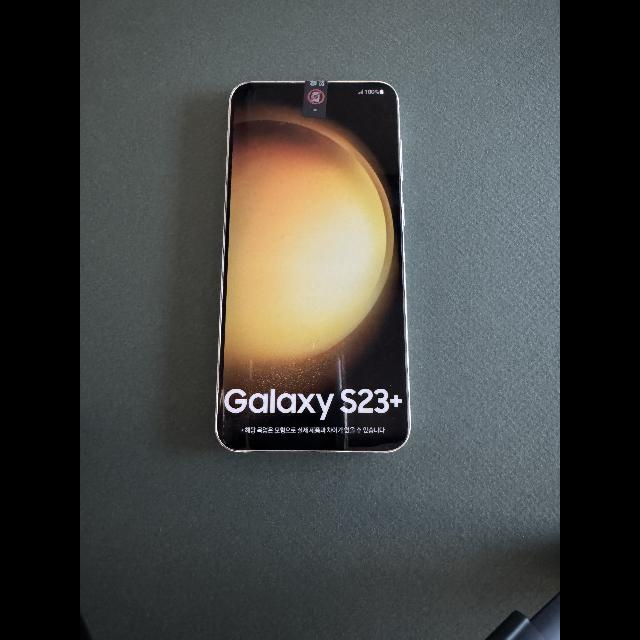phone: (215, 80, 410, 452)
sticker: (301, 79, 327, 119)
